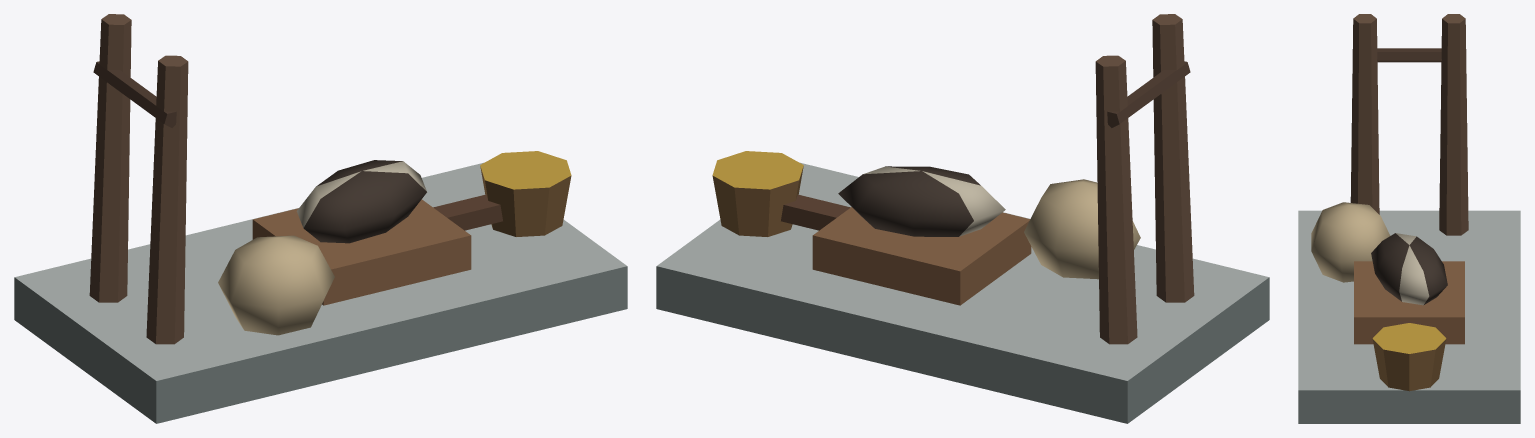
File: kit_press.glb
3 renders of one model, left to right at view 1: azimuth 30°, elevation 25°; view 2: azimuth 150°, elevation 25°; view 3: azimuth 270°, elevation 25°, orthographic. The views are drawn at different scales.
Parts seen in each view (by area): view 1: body, body_nl; view 2: body, body_nl; view 3: body, body_nl.
Part boxes in pixels (x1=…): body: x1=14, y1=14, x2=627, y2=423; body_nl: x1=93, y1=61, x2=502, y2=230; body: x1=656, y1=14, x2=1269, y2=423; body_nl: x1=781, y1=61, x2=1190, y2=230; body: x1=1298, y1=14, x2=1520, y2=423; body_nl: x1=1377, y1=48, x2=1441, y2=324.
Bounding box in the file's own units: 1.18 × 0.7408 × 0.6.
